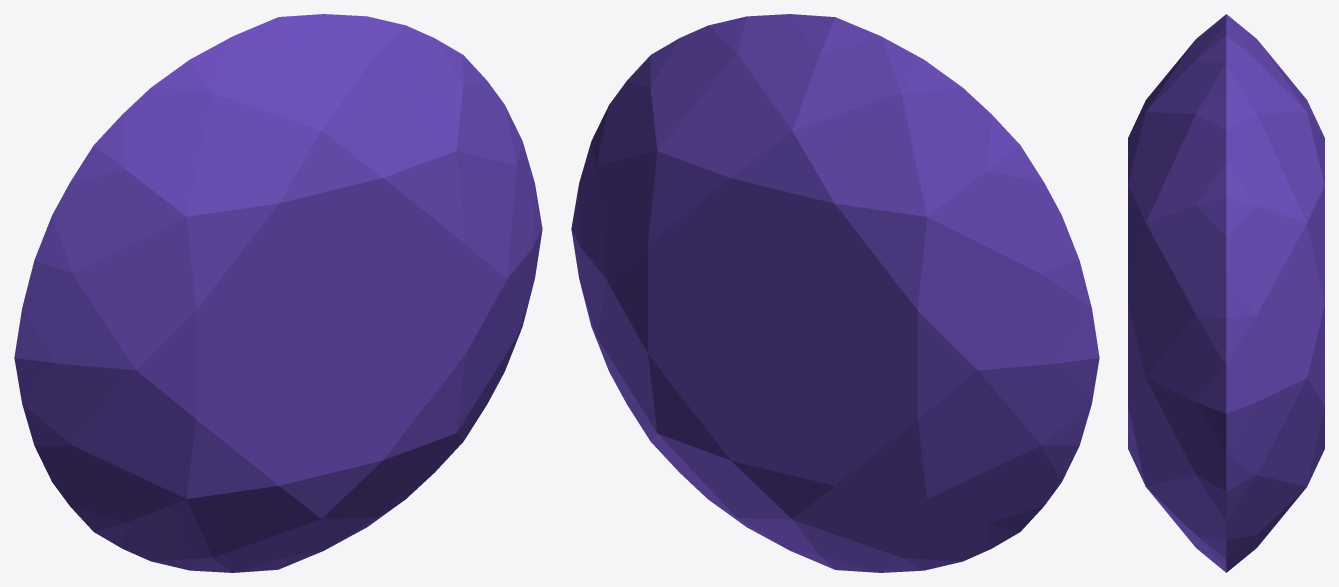
File: Gem_12.fbx
3 renders of one model, left to right at view 1: azimuth 30°, elevation 25°; view 2: azimuth 150°, elevation 25°; view 3: azimuth 270°, elevation 25°, orthographic. The views are drawn at different scales.
Parts seen in each view (by area): view 1: Gem_12; view 2: Gem_12; view 3: Gem_12.
Part boxes in pixels (x1,y1,x2,y2): Gem_12: [14, 14, 542, 572]; Gem_12: [571, 14, 1099, 572]; Gem_12: [1128, 14, 1324, 572].
Bounding box in the file's own units: 73.63 × 73.63 × 25.42.
